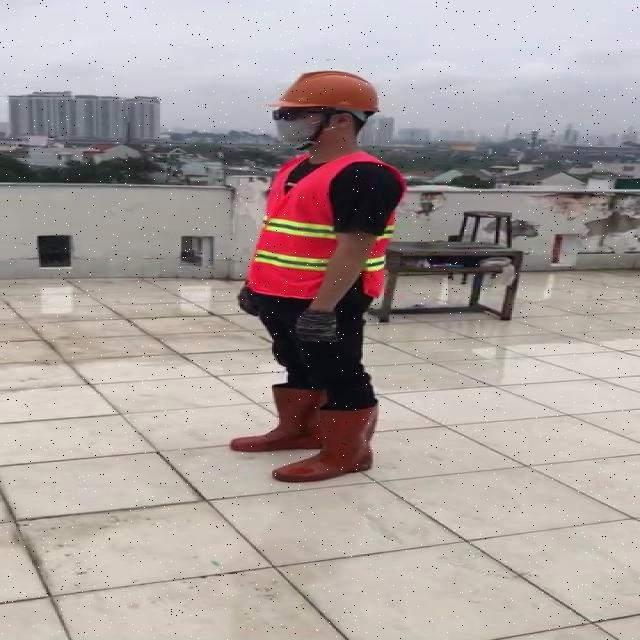Hard_hat: (266, 65, 392, 126)
Vest: (246, 148, 363, 303)
